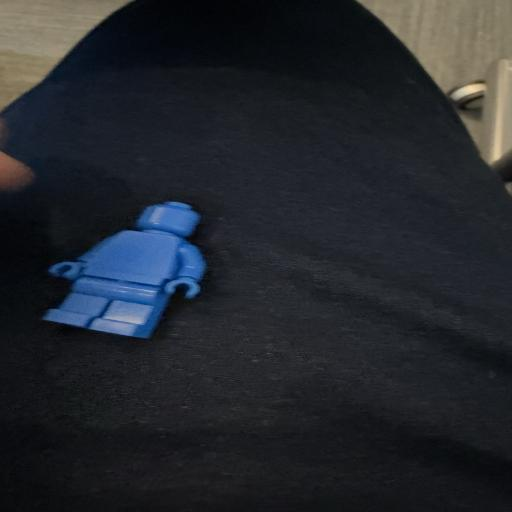blue_minifig: (41, 200, 208, 340)
